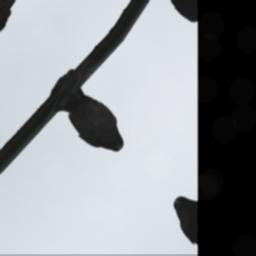Crow: (40, 66, 136, 167)
